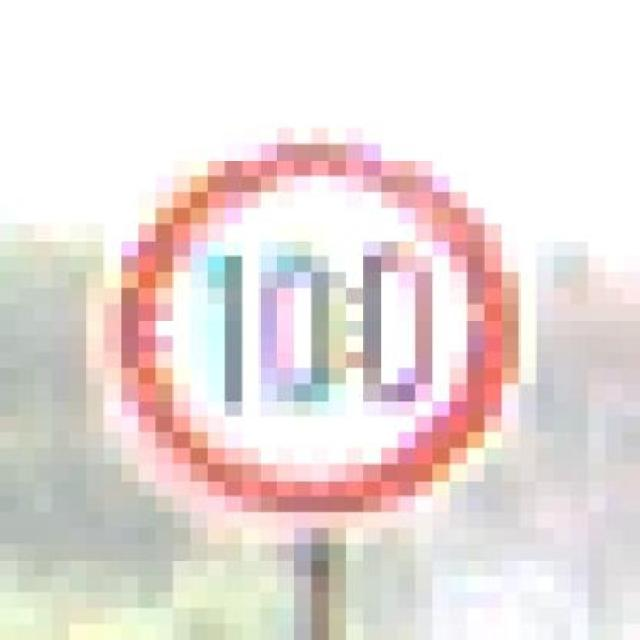forb_speed_over_100: (113, 140, 515, 526)
